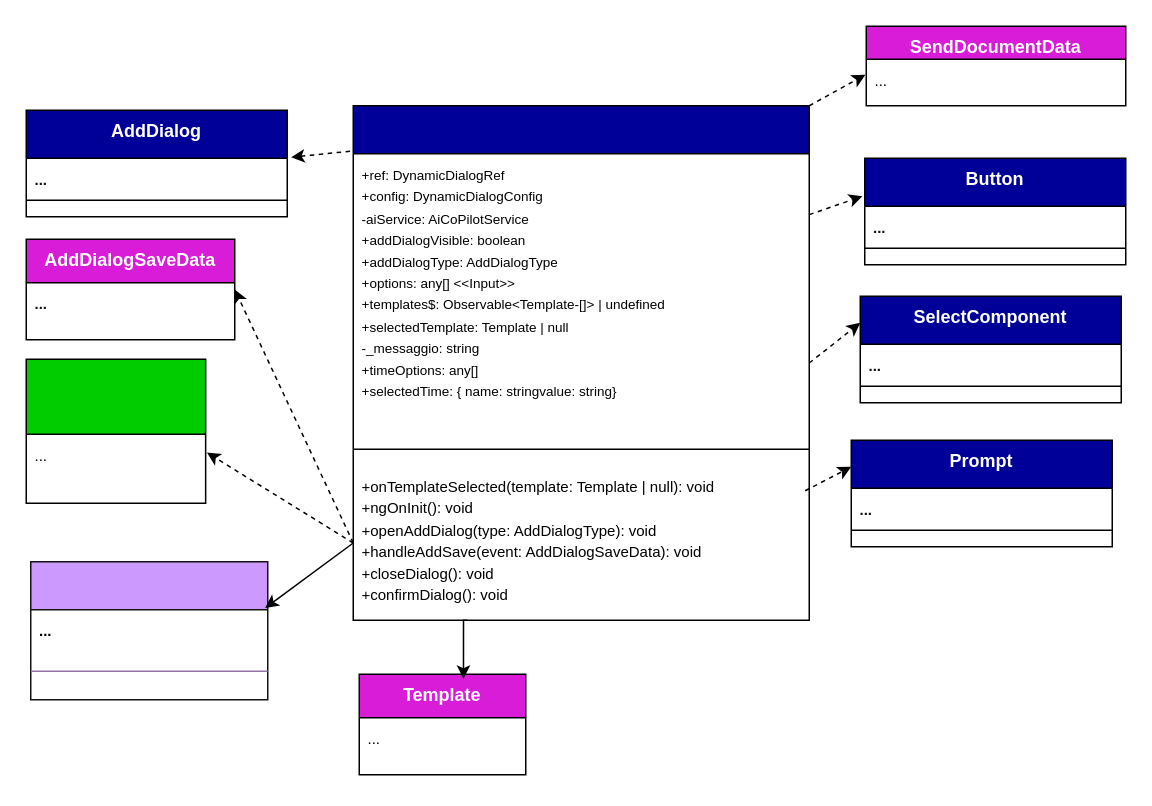
This 1152x806 diagram has some shape labels left out. Each missing label, with the box of its shape:
<<enumeration>> AddDialogType: (25, 358, 206, 503)
AiCopilotService: (29, 560, 268, 700)
SendDocumentDialog: (352, 104, 809, 620)
